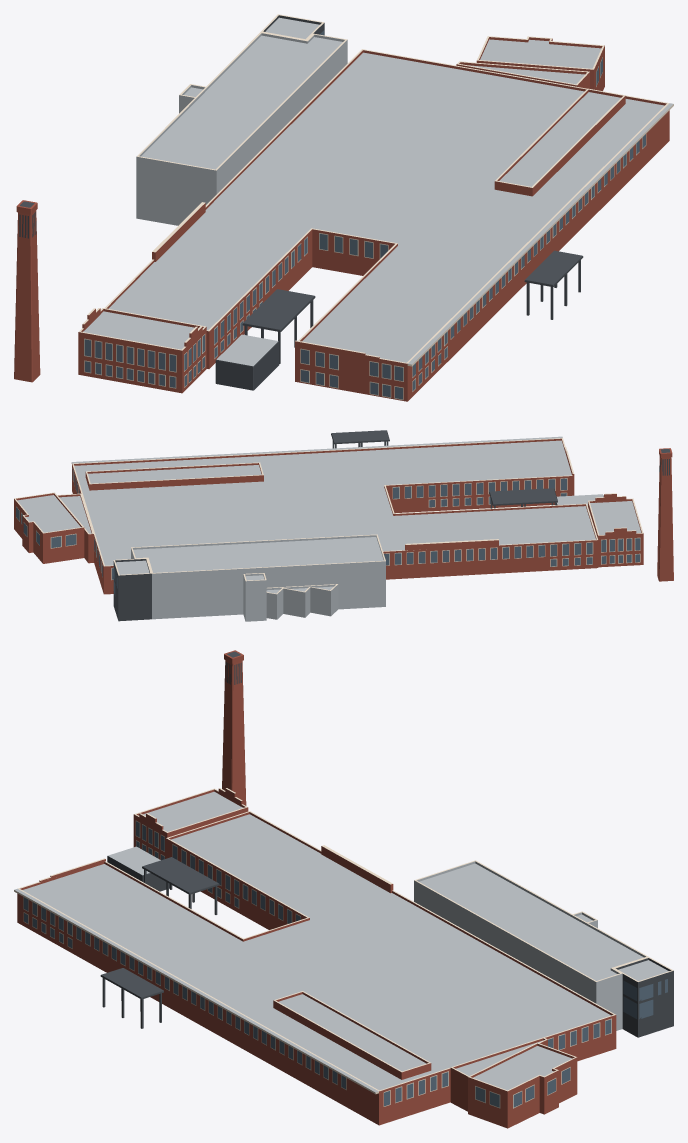
The picture shows the model from 3 angles, top to bottom: view 1: azimuth 30°, elevation 25°; view 2: azimuth 150°, elevation 25°; view 3: azimuth 270°, elevation 25°; orthographic projection. The views are drawn at different scales.
Visible parts, largest first — view 1: optimist-hall; view 2: optimist-hall; view 3: optimist-hall.
Part boxes in pixels (left/top/right/bottom): optimist-hall: left=14, top=14, right=673, bottom=401; optimist-hall: left=14, top=430, right=673, bottom=621; optimist-hall: left=14, top=650, right=673, bottom=1128.
Size of the model in its own units: 178 by 39.5 by 153.
